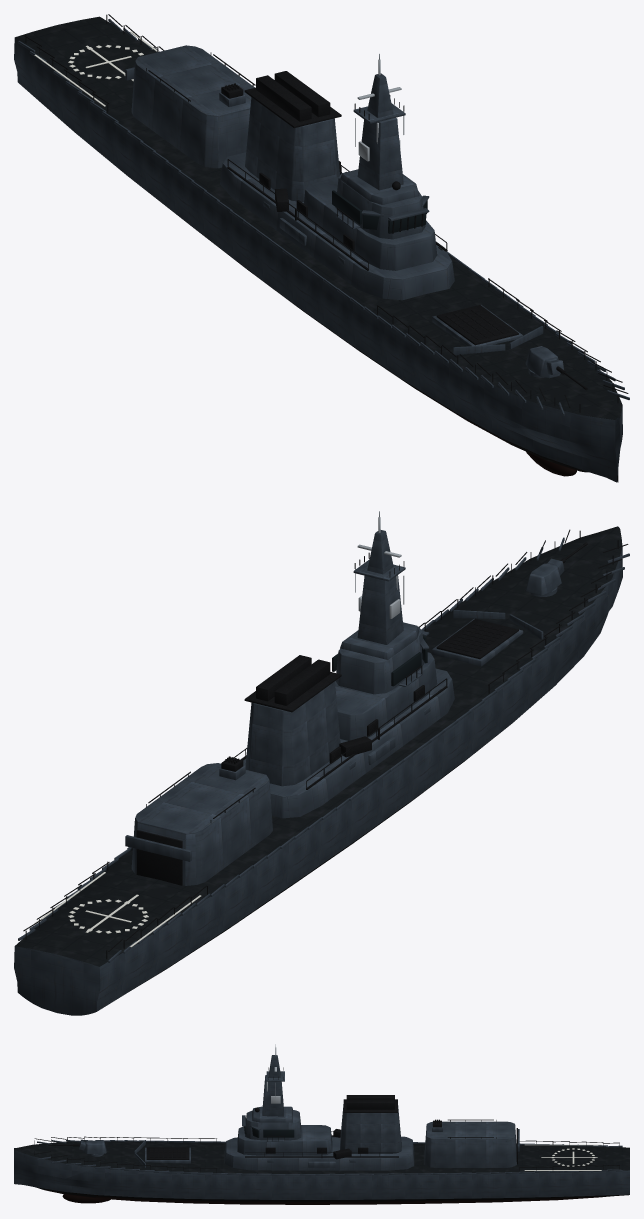
The model's file is escort_hull.glb.
3 views of the same model, one above another, from view 1: azimuth 30°, elevation 25°; view 2: azimuth 150°, elevation 25°; view 3: azimuth 270°, elevation 25° (orthographic). The views are drawn at different scales.
Parts seen in each view (by area): view 1: Hull, SS_EH_SuperMat, SS_EH_MetalMat, SS_EH_HullMat, Bridge_Glass, SS_EH_VLSMat, SS_EH_MarkMat; view 2: Hull, SS_EH_SuperMat, SS_EH_MetalMat, SS_EH_HullMat, SS_EH_VLSMat, SS_EH_MarkMat; view 3: Hull, SS_EH_SuperMat, SS_EH_MetalMat, SS_EH_HullMat, SS_EH_MarkMat, Bridge_Glass, SS_EH_VLSMat, SS_EH_KeelMat.
Boxes of the visible parts, <box> form: Hull: <box>14,16,622,482</box>; SS_EH_SuperMat: <box>125,45,563,378</box>; SS_EH_MetalMat: <box>23,14,628,412</box>; SS_EH_HullMat: <box>18,19,629,415</box>; Bridge_Glass: <box>332,190,427,233</box>; SS_EH_VLSMat: <box>225,83,509,339</box>; SS_EH_MarkMat: <box>34,31,159,106</box>; Hull: <box>14,526,622,1015</box>; SS_EH_SuperMat: <box>125,530,564,885</box>; SS_EH_MetalMat: <box>23,529,628,959</box>; SS_EH_HullMat: <box>18,537,629,962</box>; SS_EH_VLSMat: <box>225,622,509,764</box>; SS_EH_MarkMat: <box>34,872,201,947</box>; Hull: <box>14,1141,629,1204</box>; SS_EH_SuperMat: <box>79,1055,519,1170</box>; SS_EH_MetalMat: <box>34,1067,619,1172</box>; SS_EH_HullMat: <box>37,1139,622,1175</box>; SS_EH_MarkMat: <box>524,1144,601,1170</box>; Bridge_Glass: <box>244,1117,294,1137</box>; SS_EH_VLSMat: <box>150,1119,439,1157</box>; SS_EH_KeelMat: <box>62,1194,110,1203</box>.
Bounding box in the file's own units: 15.2 × 34.06 × 120.
Materials: 12 (7 with a texture image).
